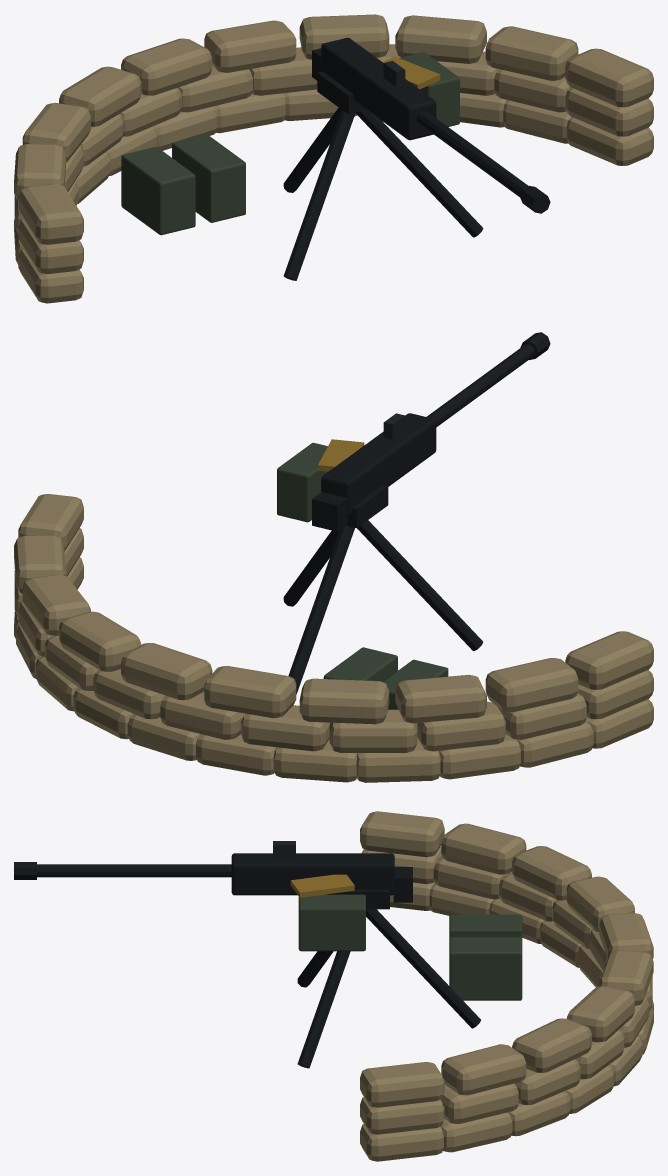
The model's file is sns_weapon_mount.glb.
3 renders of one model, top to bottom at view 1: azimuth 30°, elevation 25°; view 2: azimuth 150°, elevation 25°; view 3: azimuth 270°, elevation 25°, orthographic. The views are drawn at different scales.
Parts seen in each view (by area): view 1: SNS_WEAPON_MOUNT; view 2: SNS_WEAPON_MOUNT; view 3: SNS_WEAPON_MOUNT.
Boxes of the visible parts, box(x1,y1,x2,y2) form: SNS_WEAPON_MOUNT: box(14, 14, 653, 303); SNS_WEAPON_MOUNT: box(14, 332, 653, 782); SNS_WEAPON_MOUNT: box(14, 811, 653, 1161).
Bounding box in the file's own units: 3.41 × 1.06 × 3.34.
